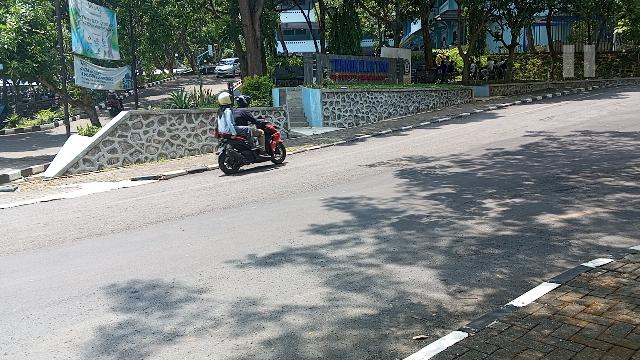helm: (219, 93, 235, 108), (237, 95, 254, 109)
motor: (215, 116, 287, 176)
